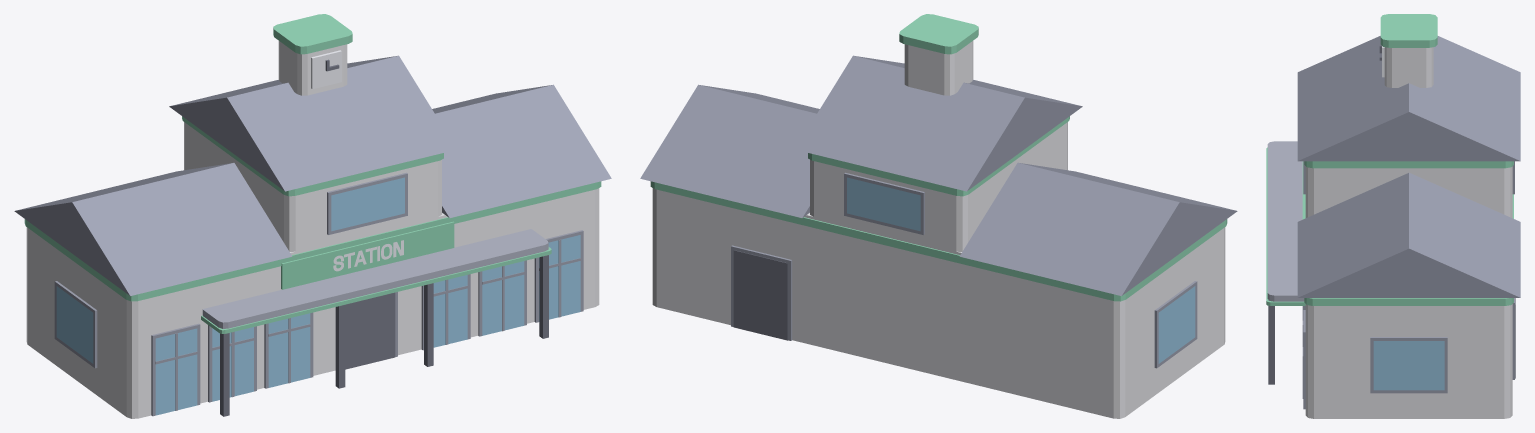
The model's file is station-2x1.glb.
3 renders of one model, left to right at view 1: azimuth 30°, elevation 25°; view 2: azimuth 150°, elevation 25°; view 3: azimuth 270°, elevation 25°, orthographic. The views are drawn at different scales.
Parts seen in each view (by area): view 1: station-2x1; view 2: station-2x1; view 3: station-2x1.
Boxes of the visible parts, <box> form: station-2x1: <box>14,14,611,418</box>; station-2x1: <box>640,14,1237,418</box>; station-2x1: <box>1266,14,1520,418</box>.
Size of the model in its own units: 1.96 by 1.14 by 0.935.
Materials: 1 (1 with a texture image).
